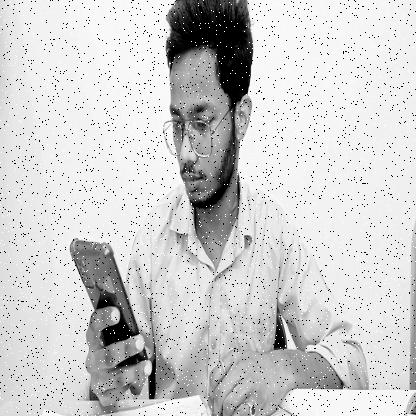Distracted: (158, 2, 249, 216)
